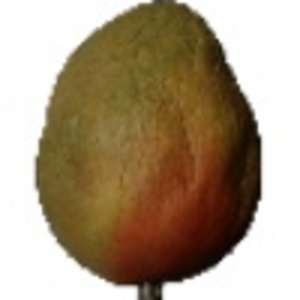mamão: (24, 3, 269, 294)
